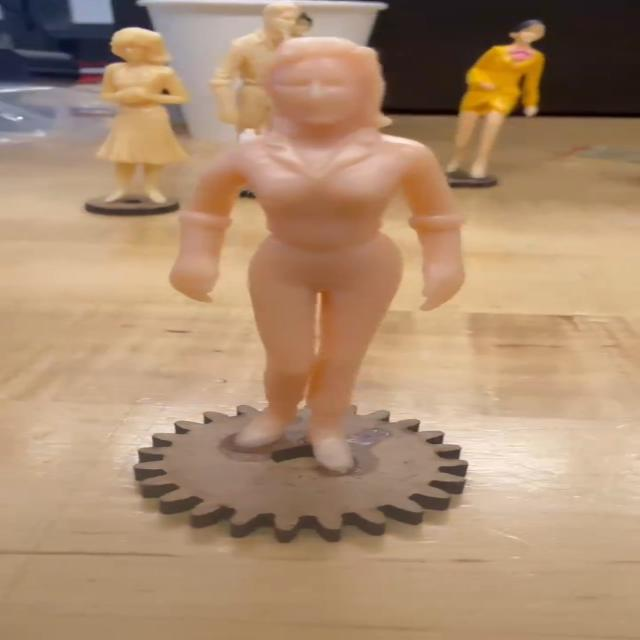Unauthorized: (114, 22, 509, 489)
